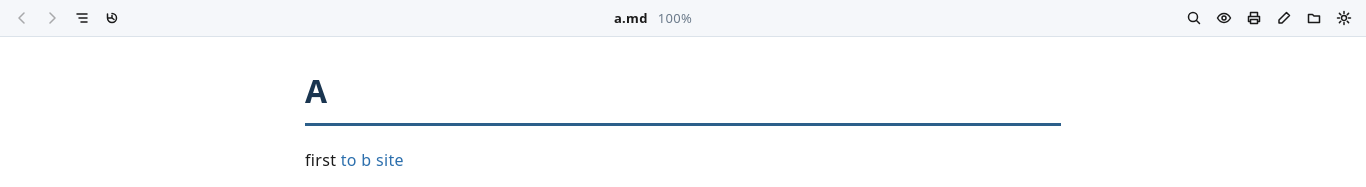
Test: App: リンクと戻る・進む › 相対リンクの .md は同じウィンドウで開き、戻るで前の文書に戻る
The image size is (1366, 187).
Expected: the heading "A" is shown, [305,69,1061,126]
Click the link "to b" at (356, 160), box [341,149,372,171]
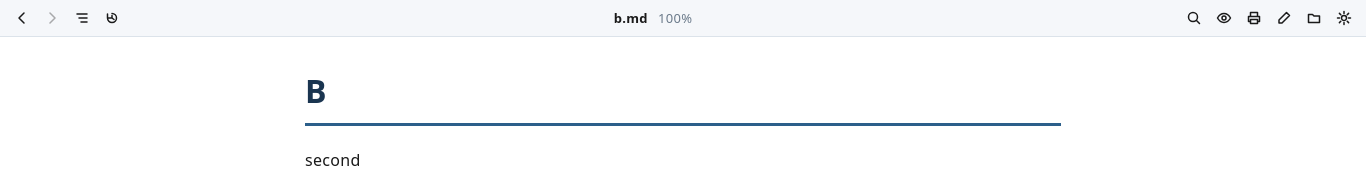
Expected: the heading "B" is shown, [305,69,1061,126]
Click the button named "Back" at (22, 18), box [8,4,36,32]
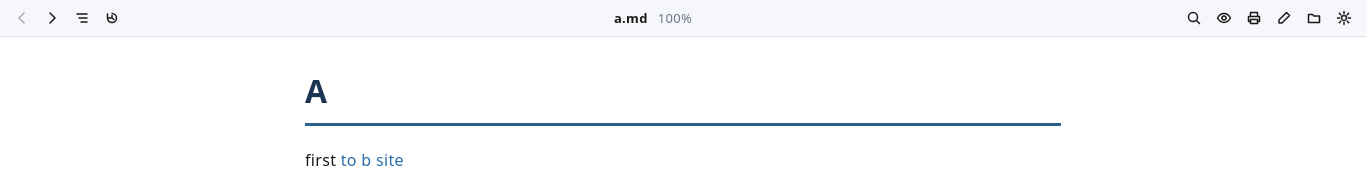
Expected: the heading "A" is shown, [305,69,1061,126]
Expected: the button named "Forward" is enabled, [38,4,66,32]
